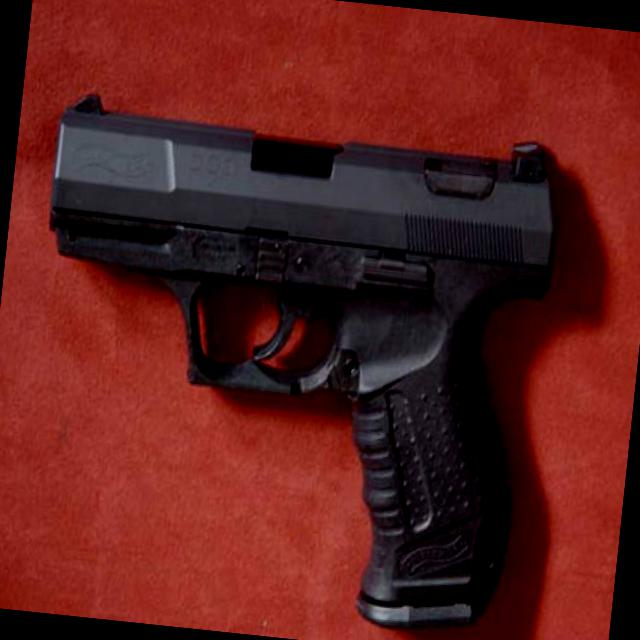handgun: (7, 79, 564, 633)
